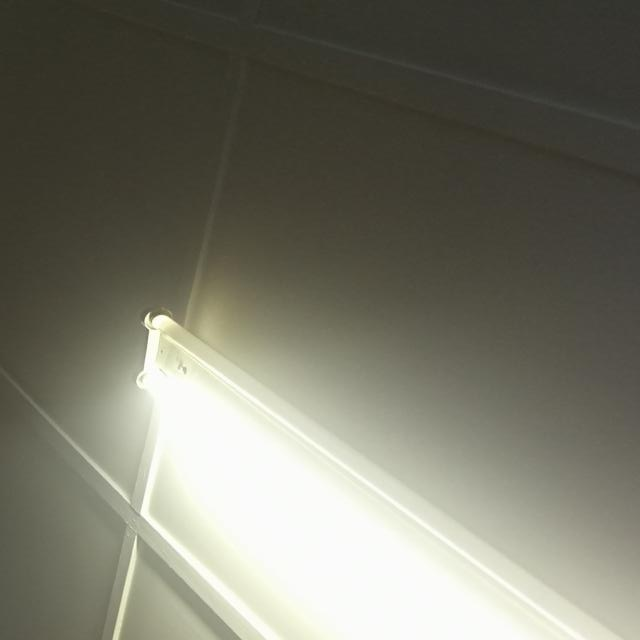fluorescent tube: (111, 293, 640, 640)
